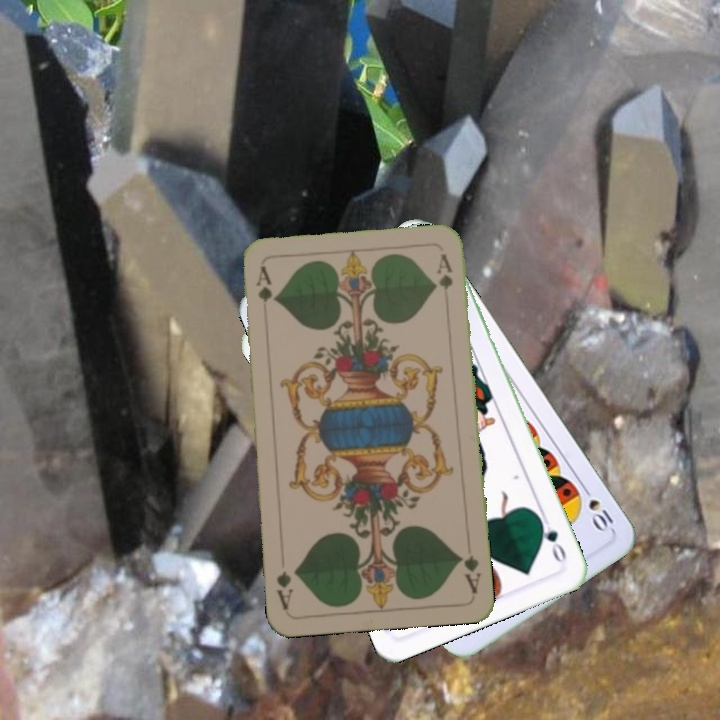GA: (455, 551, 484, 596), (252, 262, 275, 305)
GO: (534, 510, 569, 567)
S10: (578, 481, 616, 535)
